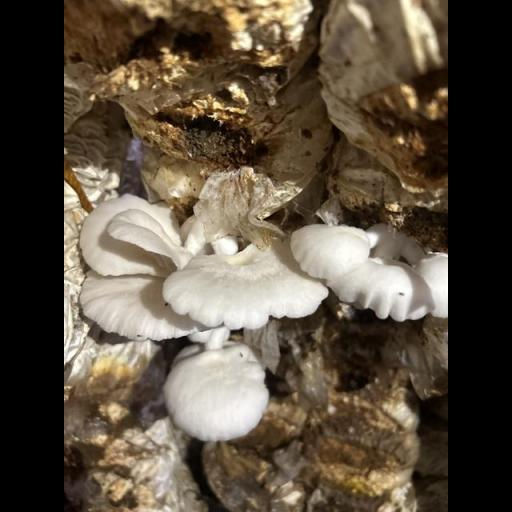White Oyster Mushroom: (78, 194, 445, 436)
